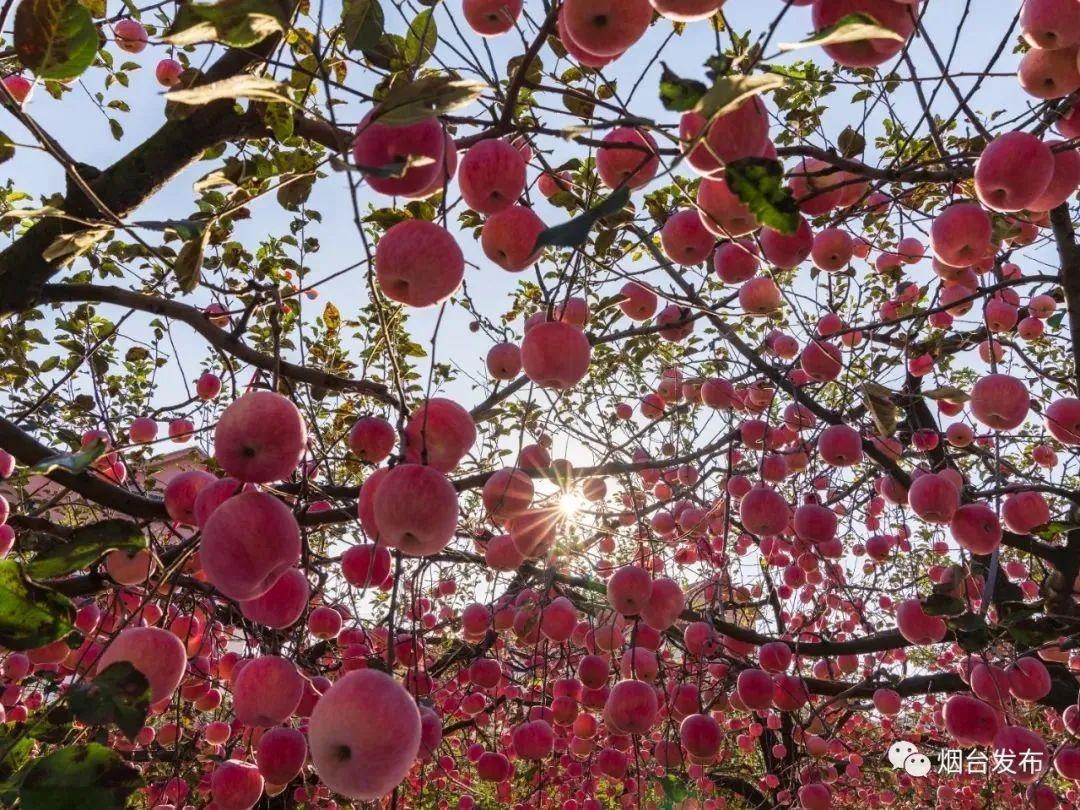apple: (310, 668, 422, 803), (197, 492, 301, 601), (371, 218, 467, 311), (215, 390, 308, 484), (372, 460, 458, 561), (352, 113, 451, 200), (972, 130, 1055, 212), (398, 396, 475, 472), (229, 654, 304, 731), (519, 317, 590, 390), (459, 140, 529, 214), (562, 1, 651, 59), (476, 203, 542, 272), (929, 201, 992, 271), (693, 174, 761, 236), (596, 126, 659, 191), (968, 373, 1031, 431), (760, 212, 813, 274), (1014, 49, 1079, 99), (1015, 3, 1080, 52), (660, 209, 712, 266), (607, 679, 658, 733), (906, 474, 959, 525), (948, 503, 1002, 553), (740, 484, 789, 535), (894, 598, 945, 647), (606, 565, 652, 619), (1002, 489, 1052, 537), (458, 1, 525, 34), (348, 417, 395, 463), (712, 241, 760, 284), (818, 422, 863, 467), (793, 500, 837, 546), (1042, 396, 1080, 448), (810, 228, 854, 269), (737, 274, 781, 313), (800, 342, 842, 381), (485, 342, 523, 382), (617, 282, 657, 320), (984, 298, 1018, 335), (938, 284, 974, 317)
